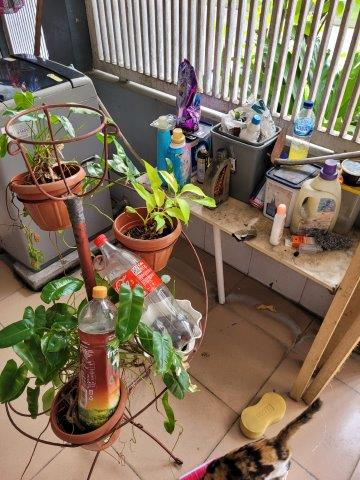botolplastik: (96, 233, 200, 350), (78, 289, 116, 423), (289, 102, 315, 166)
